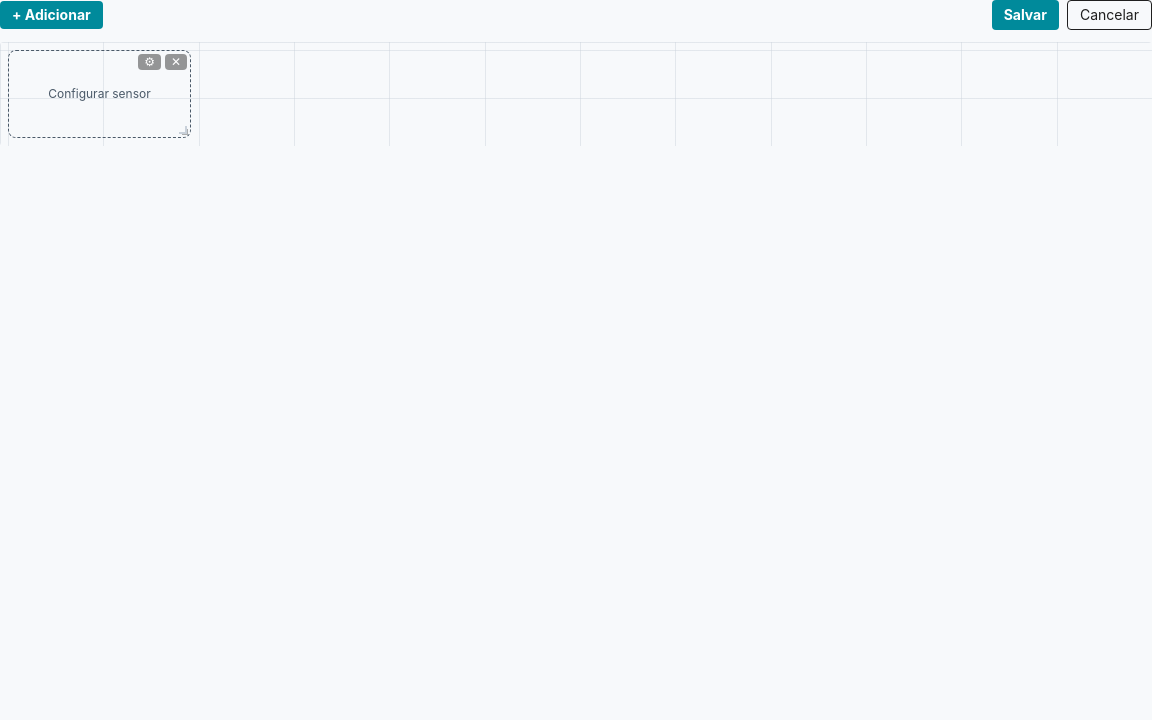
DashboardEditor › clicar em ⚙ abre a config na aba lateral (drawer), e ✕ fecha
Click the button named "Configurar widget": (150, 62) 138,54 -> 161,70
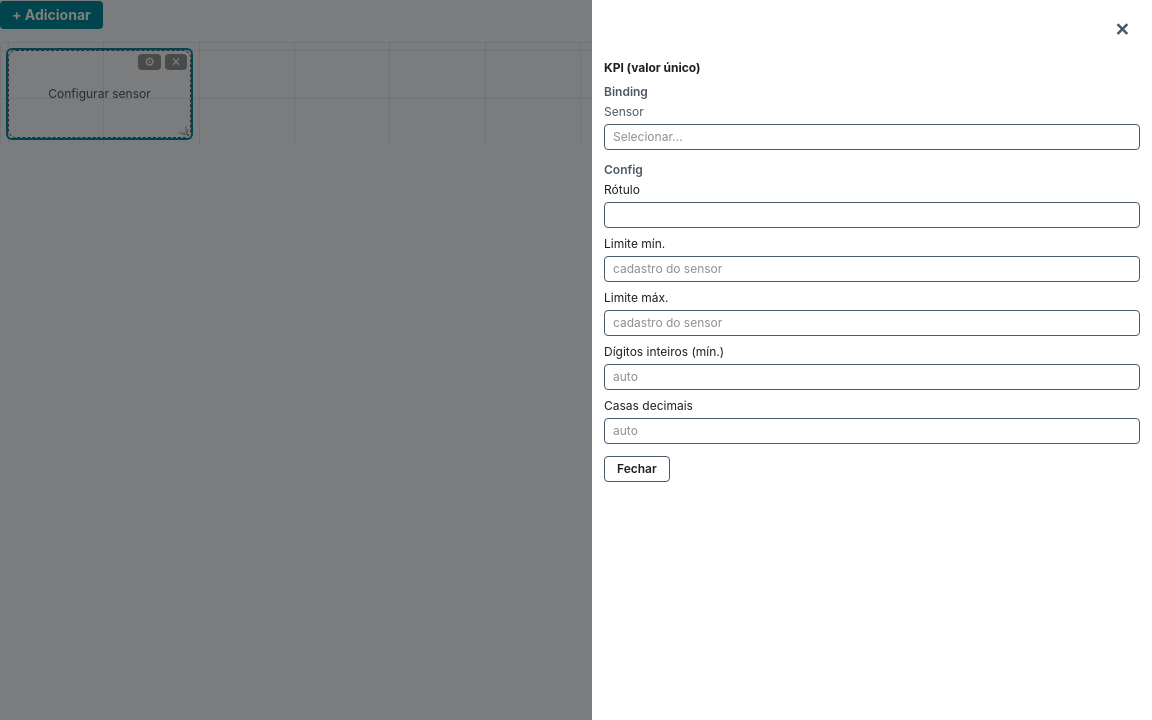
fecha pelo ✕ do drawer
Click the button named "Fechar": (1122, 30) 1100,8 -> 1144,52
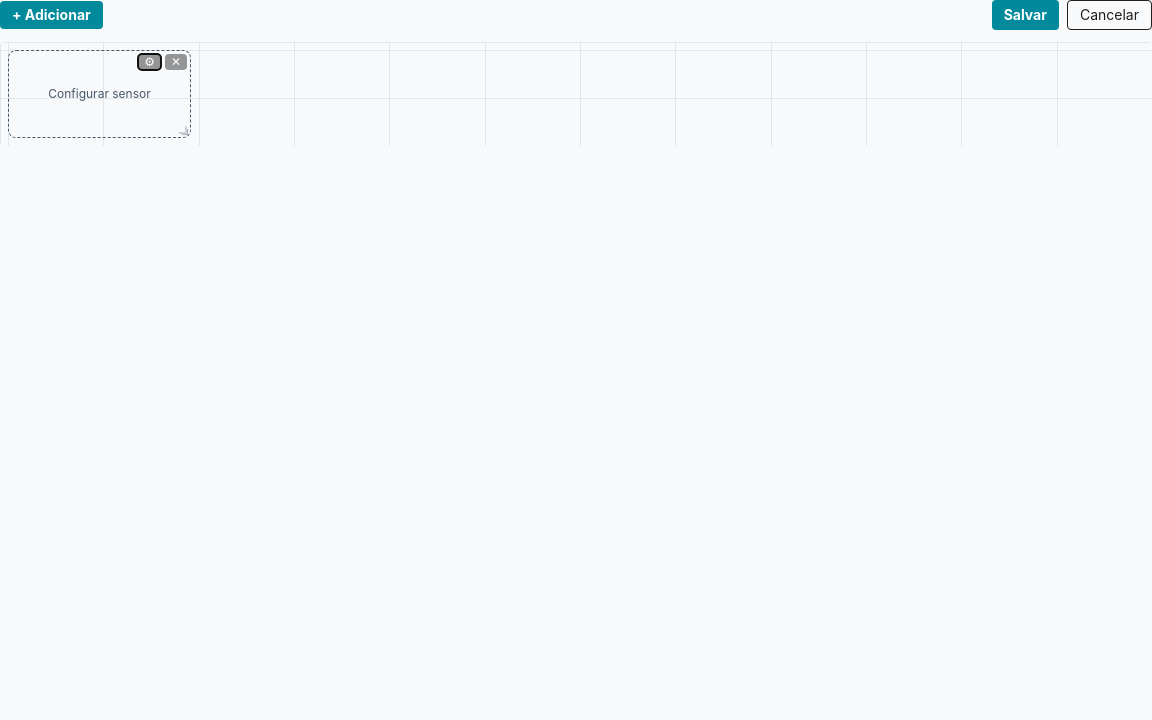
Expected: the dialog is gone
